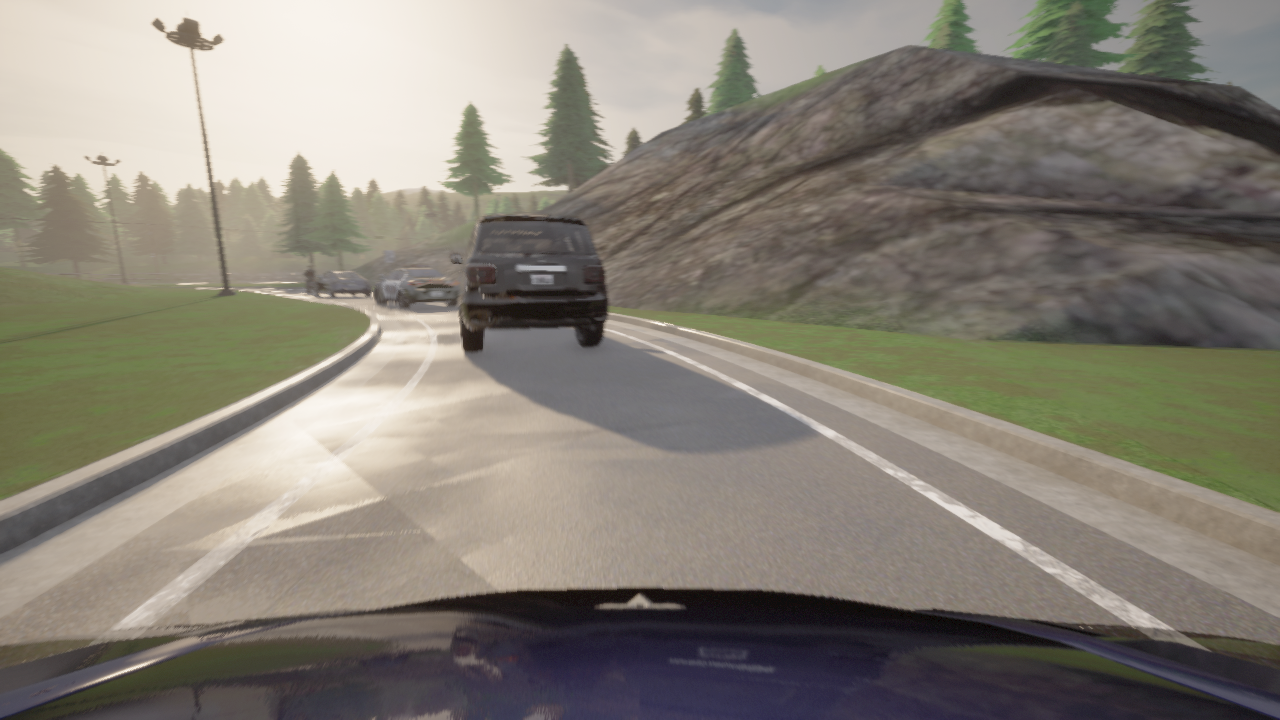cyclist: (0, 588, 1279, 719), (450, 214, 607, 352), (374, 265, 458, 308), (313, 271, 371, 297), (311, 280, 313, 291)
